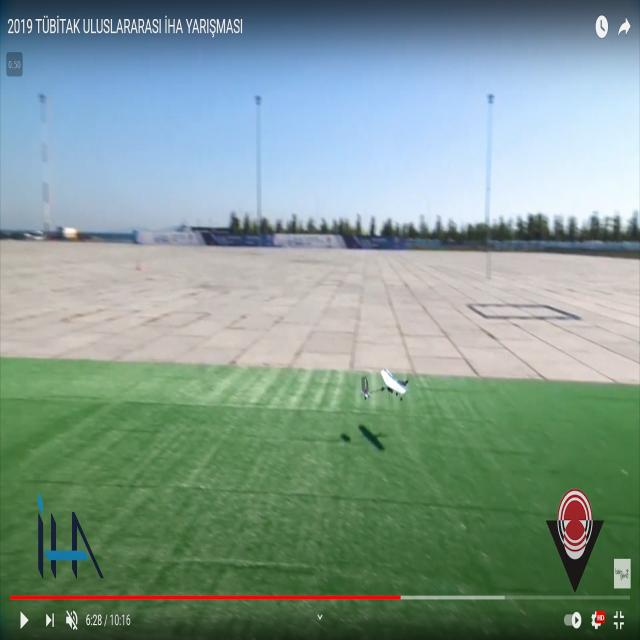iha: (359, 368, 409, 406)
